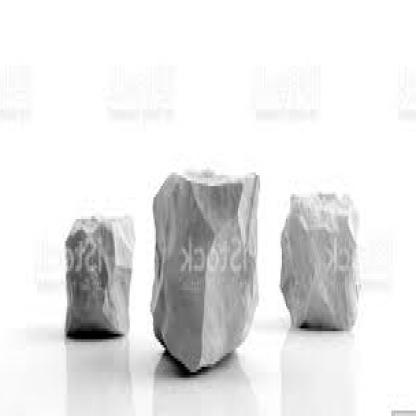Metamorphic_Marble: (144, 153, 264, 375), (279, 156, 370, 331), (63, 202, 133, 340)
